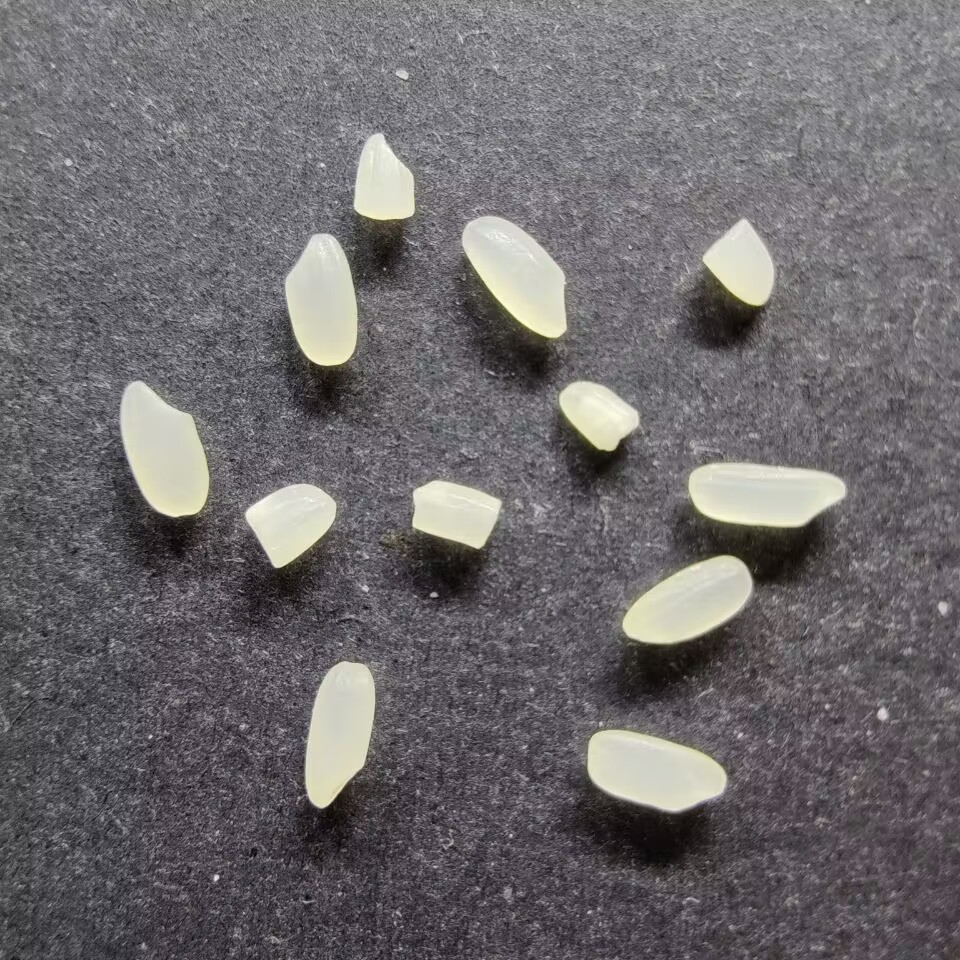broken: (244, 482, 336, 568), (701, 218, 775, 307), (411, 480, 502, 549), (558, 380, 639, 452), (351, 132, 415, 221)
rice: (461, 215, 568, 339), (119, 380, 209, 517), (621, 554, 752, 644), (585, 729, 726, 812), (303, 660, 376, 809), (688, 462, 846, 527), (283, 233, 358, 366)
